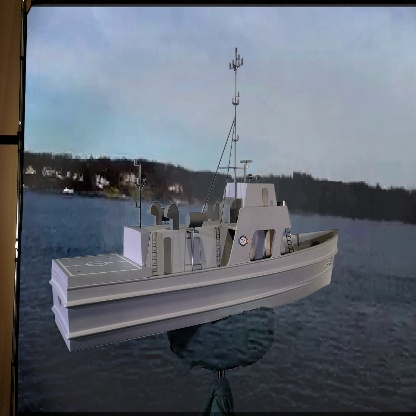YP689: (50, 49, 340, 353)
